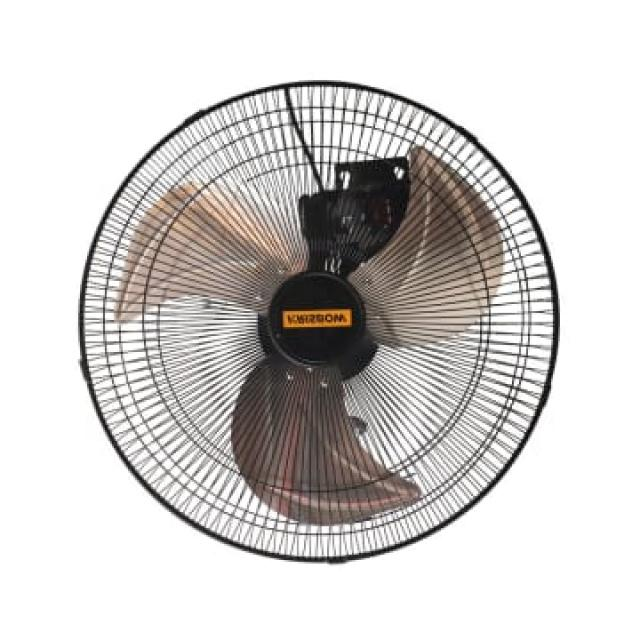fan: (74, 76, 570, 572)
